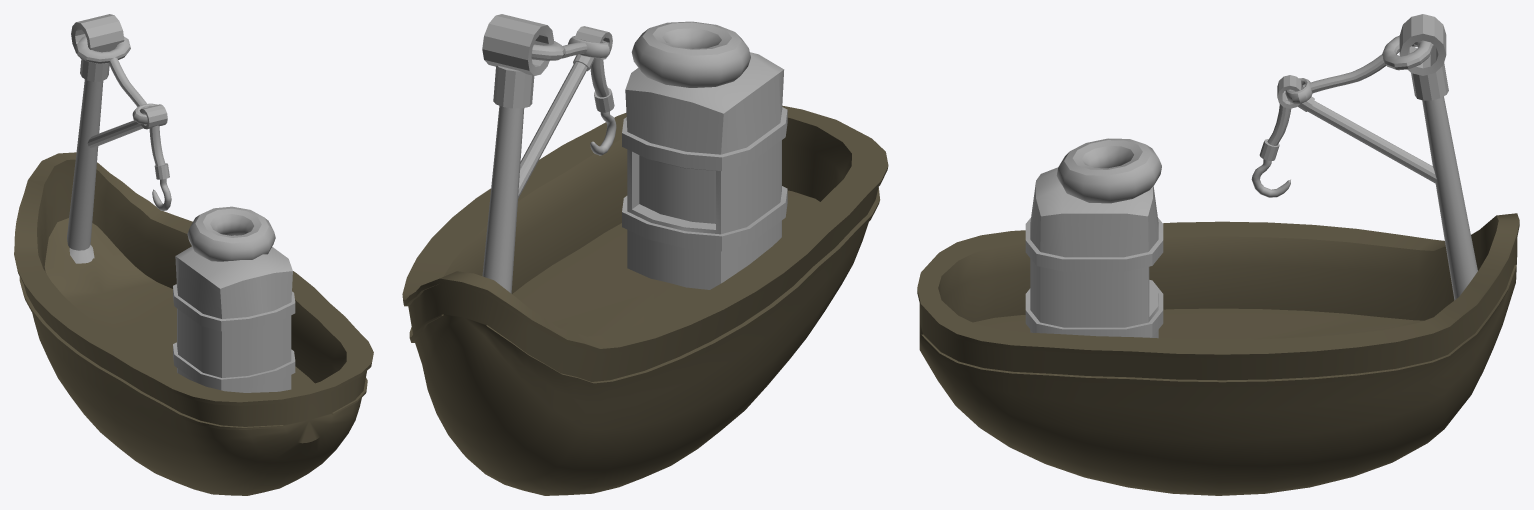
Rendered from FishingBoat.fbx.
3 views of the same model, side by side, from view 1: azimuth 30°, elevation 25°; view 2: azimuth 150°, elevation 25°; view 3: azimuth 270°, elevation 25° (orthographic). The views are drawn at different scales.
Visible parts, largest first — view 1: pSphere1, pTorus2; view 2: pSphere1, pTorus2; view 3: pSphere1, pTorus2.
Part boxes in pixels (box(x1,y1,x2,y2)): pSphere1: box(14, 152, 373, 495); pTorus2: box(67, 14, 295, 392); pSphere1: box(402, 105, 888, 495); pTorus2: box(482, 14, 787, 293); pSphere1: box(917, 213, 1519, 495); pTorus2: box(1025, 14, 1477, 338).
Size of the model in its own units: 1.9 by 3.07 by 3.64.
